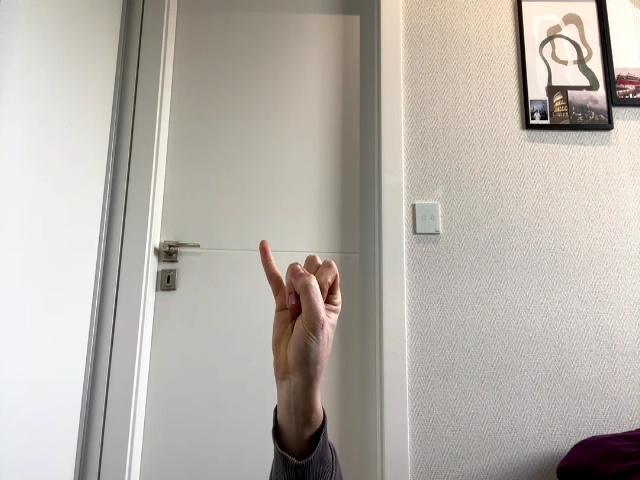I: (259, 239, 342, 384)
